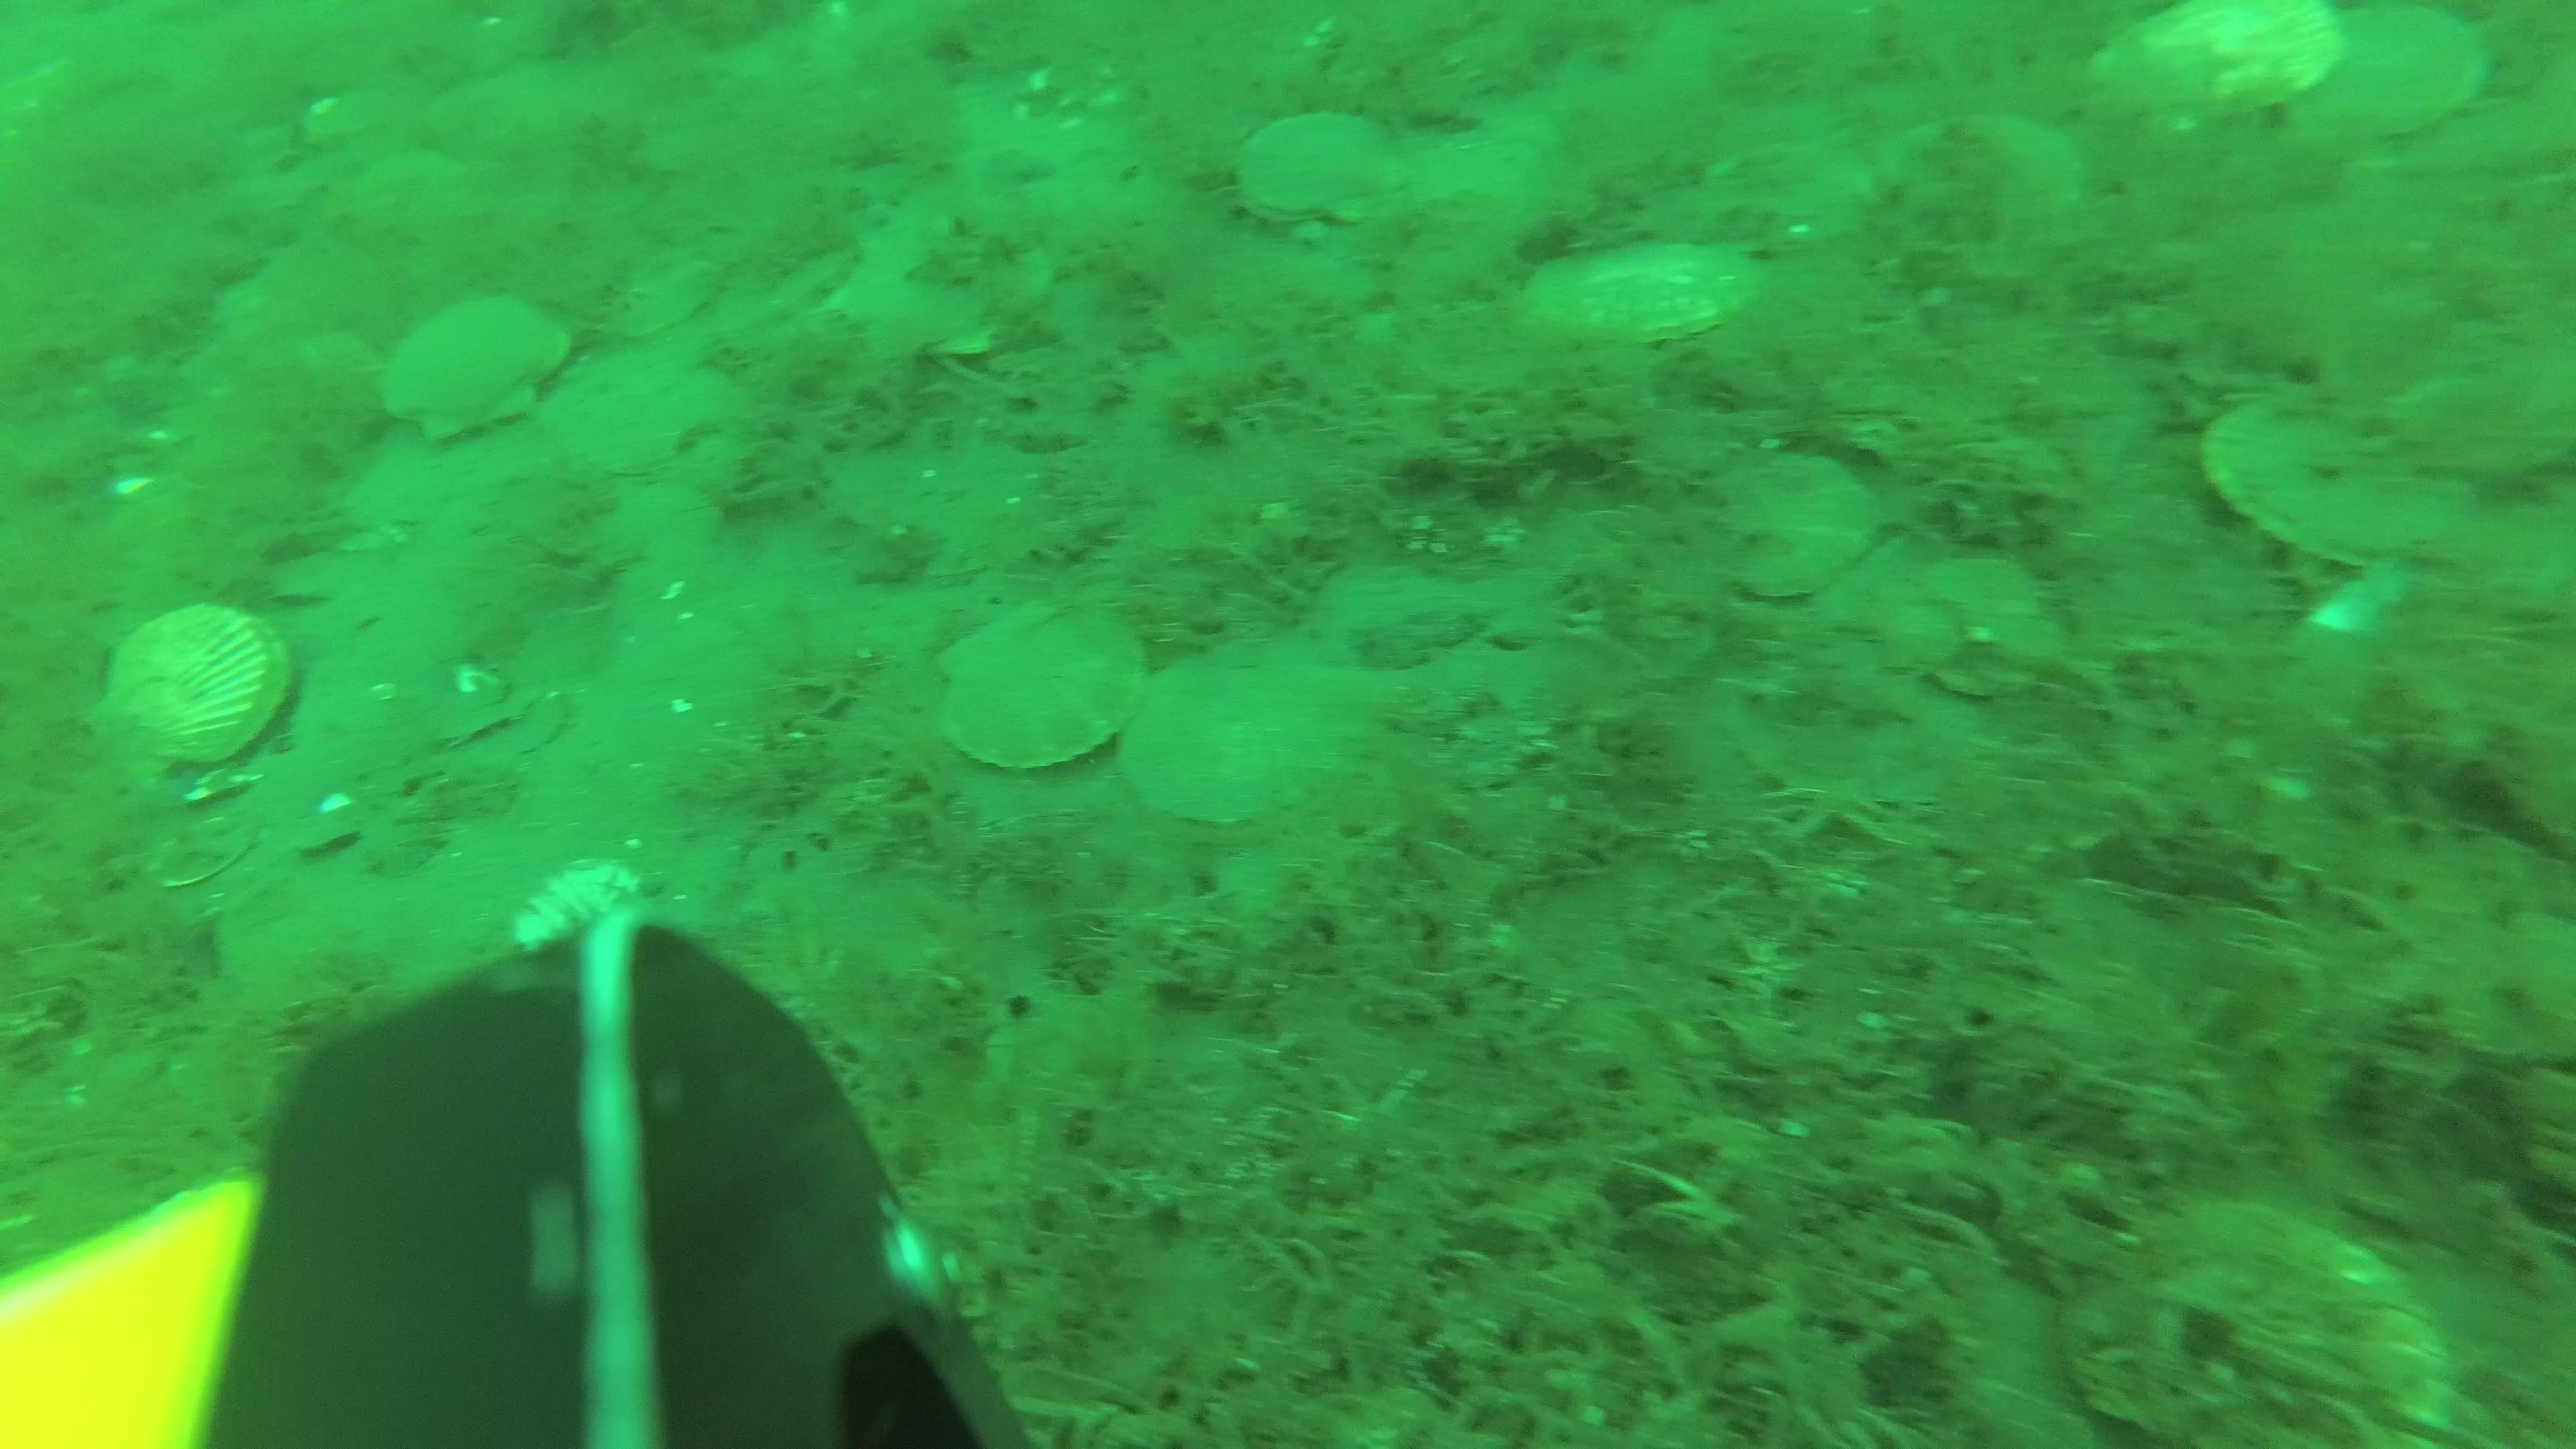scallop: (2065, 1205, 2449, 1449), (2203, 389, 2461, 580), (1122, 651, 1359, 821), (925, 596, 1136, 770), (828, 203, 1040, 356), (94, 603, 288, 757), (372, 299, 577, 442), (2089, 0, 2337, 119), (2289, 0, 2477, 143), (1709, 458, 1881, 602), (1518, 239, 1748, 340), (1219, 111, 1421, 225), (1882, 113, 2079, 214), (517, 862, 640, 961)
